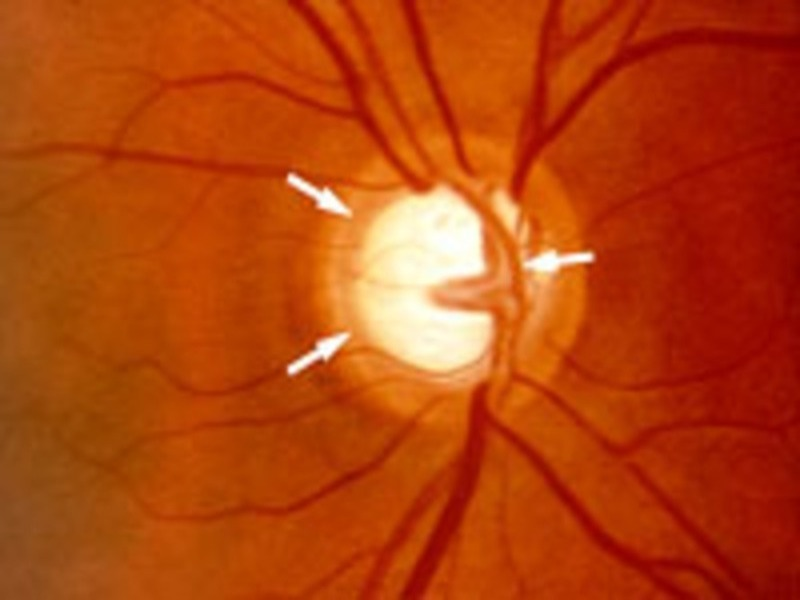Optic Cup: (361, 198, 488, 369)
Optic Disc: (321, 132, 586, 420)
